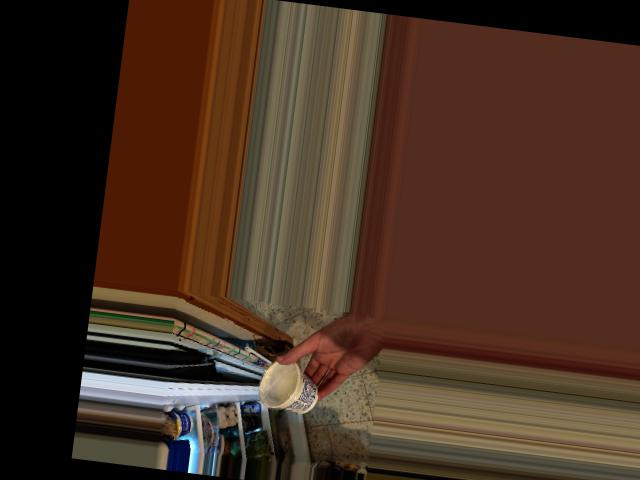cotage: (256, 357, 323, 410)
